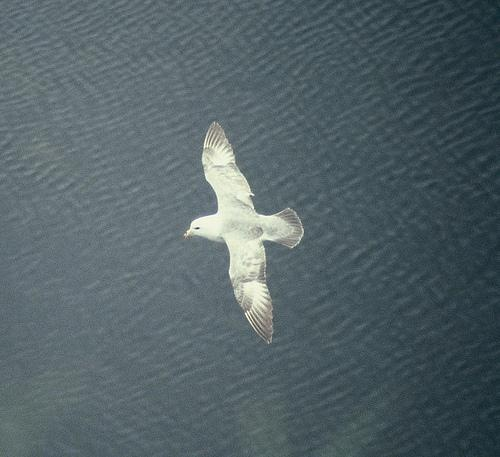bird: (189, 118, 306, 342)
